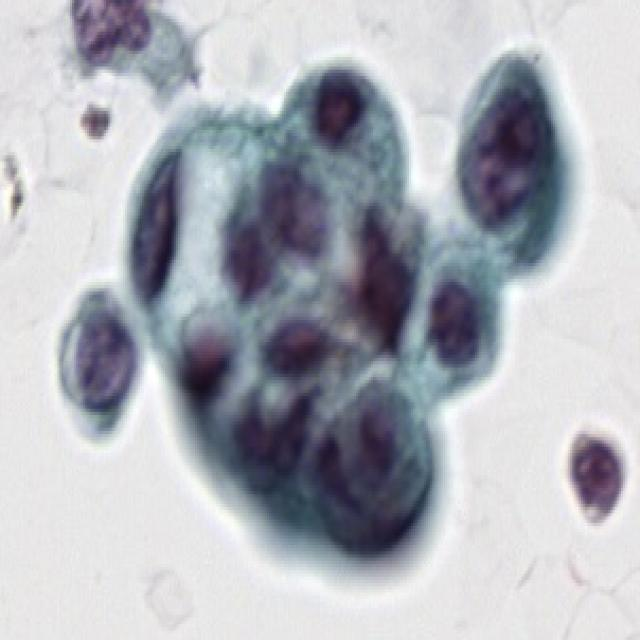nucleus: (272, 365, 474, 576), (184, 148, 355, 318), (437, 52, 577, 239), (212, 368, 323, 503), (346, 198, 424, 355), (289, 60, 381, 154), (130, 145, 183, 305), (70, 306, 141, 417), (254, 309, 343, 390), (418, 275, 486, 372), (168, 338, 237, 416)
